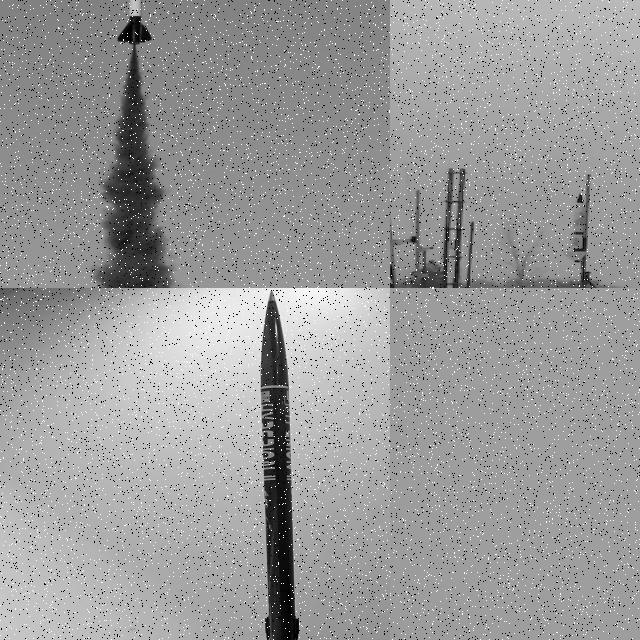Rocket: (260, 291, 299, 640), (561, 191, 591, 264), (116, 0, 155, 44), (390, 259, 398, 288)
